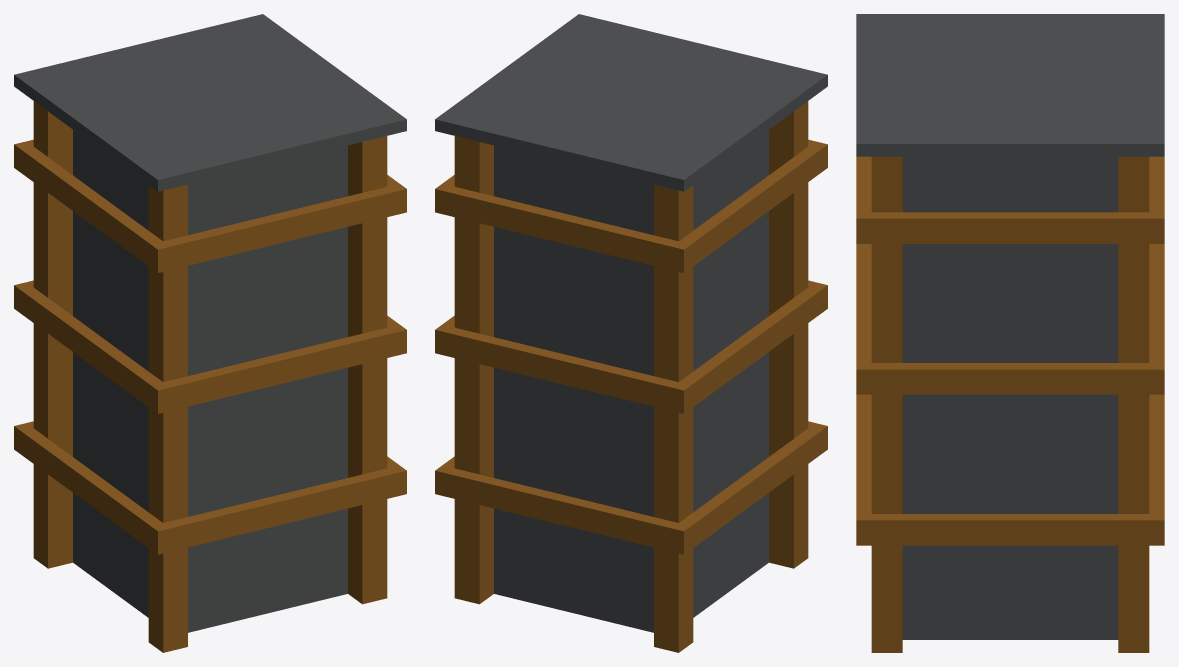
The model's file is Wall.fbx.
The picture shows the model from 3 angles, left to right: view 1: azimuth 30°, elevation 25°; view 2: azimuth 150°, elevation 25°; view 3: azimuth 270°, elevation 25°; orthographic projection. The views are drawn at different scales.
Parts seen in each view (by area): view 1: Wall; view 2: Wall; view 3: Wall.
Boxes of the visible parts, x1,y1,x2,y2 form: Wall: [14, 14, 406, 652]; Wall: [435, 14, 827, 652]; Wall: [856, 14, 1164, 652].
Bounding box in the file's own units: 2.22 × 2.22 × 4.1.
